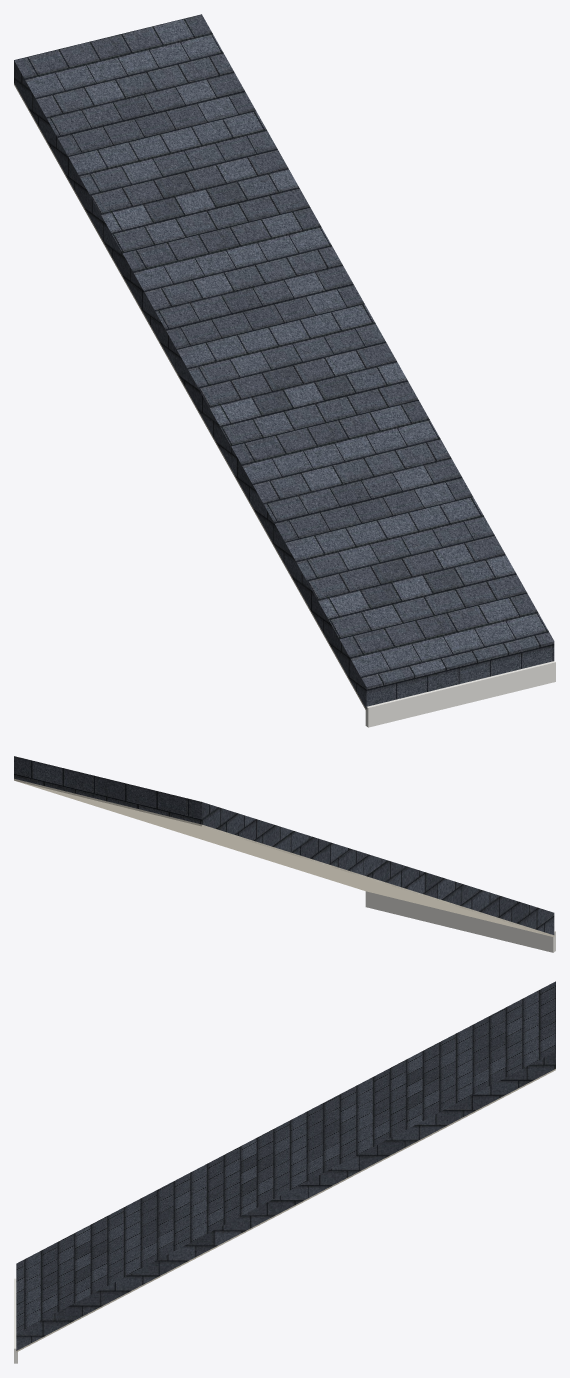
The model's file is roof_main_1.glb.
3 views of the same model, one above another, from view 1: azimuth 30°, elevation 25°; view 2: azimuth 150°, elevation 25°; view 3: azimuth 270°, elevation 25° (orthographic). The views are drawn at different scales.
Parts seen in each view (by area): view 1: roof_main_1_shingle, roof_main_1_trim, roof_main_1_plaster; view 2: roof_main_1_shingle, roof_main_1_plaster, roof_main_1_trim; view 3: roof_main_1_shingle, roof_main_1_plaster.
Part boxes in pixels (x1=…): roof_main_1_shingle: x1=14, y1=14, x2=554, y2=709; roof_main_1_trim: x1=365, y1=661, x2=555, y2=727; roof_main_1_plaster: x1=14, y1=83, x2=366, y2=711; roof_main_1_shingle: x1=14, y1=756, x2=554, y2=934; roof_main_1_plaster: x1=14, y1=778, x2=554, y2=936; roof_main_1_trim: x1=365, y1=891, x2=555, y2=952; roof_main_1_shingle: x1=16, y1=981, x2=555, y2=1350; roof_main_1_plaster: x1=16, y1=1069, x2=555, y2=1352.
Bounding box in the file's own units: 2 × 4.15 × 6.53.
Materials: 3 (2 with a texture image).
